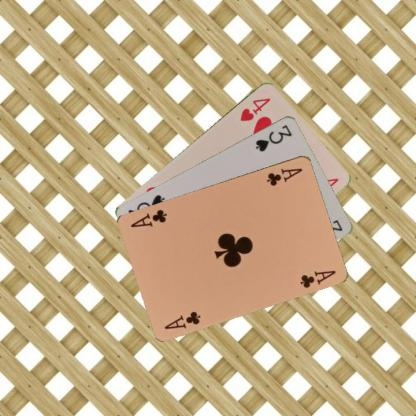3s: (253, 122, 294, 152)
4h: (238, 95, 272, 122)
Ac: (264, 165, 304, 187), (162, 308, 202, 330)
